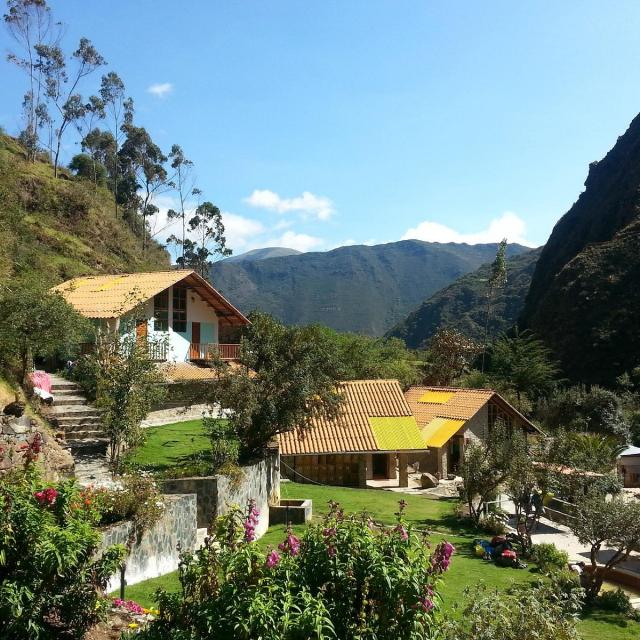Fachada: (53, 270, 251, 363), (279, 380, 427, 487), (405, 386, 541, 479)
